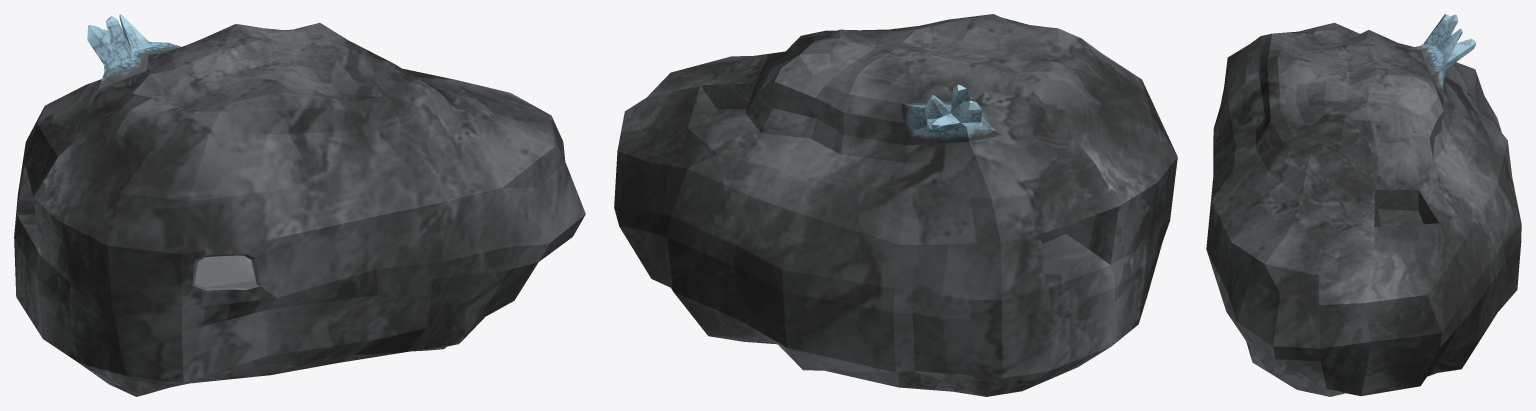
File: asteroid.obj
3 views of the same model, side by side, from view 1: azimuth 30°, elevation 25°; view 2: azimuth 150°, elevation 25°; view 3: azimuth 270°, elevation 25° (orthographic). The views are drawn at different scales.
Visible parts, largest first — view 1: Sphere_Sphere.001; view 2: Sphere_Sphere.001; view 3: Sphere_Sphere.001.
Boxes of the visible parts, <box> form: Sphere_Sphere.001: <box>14,14,585,396</box>; Sphere_Sphere.001: <box>614,14,1177,396</box>; Sphere_Sphere.001: <box>1206,14,1521,396</box>.
Bounding box in the file's own units: 2.7 × 1.66 × 1.72.
